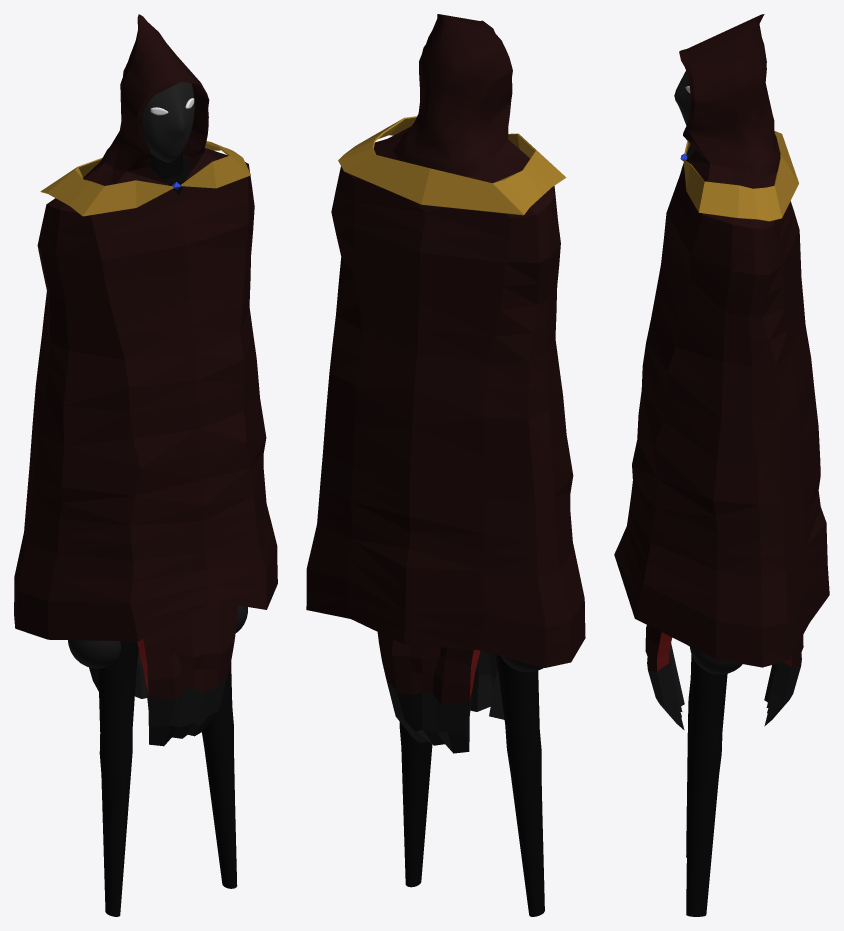
File: mav3.FBX
The picture shows the model from 3 angles, left to right: view 1: azimuth 30°, elevation 25°; view 2: azimuth 150°, elevation 25°; view 3: azimuth 270°, elevation 25°; orthographic projection. The views are drawn at different scales.
Parts seen in each view (by area): view 1: HOOD006, CLOTH FRONT008, LEG L024, Object006, LEG L022, FACE006, Sphere006, NECK006; view 2: HOOD006, Object006, CLOTH FRONT009, LEG L024, LEG L022, CLOTH FRONT008; view 3: HOOD006, LEG L022, Object006, CLOTH FRONT008, CLOTH FRONT009, Sphere005, FACE006.
Boxes of the visible parts, x1,y1,x2,y2 form: HOOD006: (14, 14, 277, 641); CLOTH FRONT008: (137, 601, 238, 746); LEG L024: (98, 641, 138, 916); Object006: (40, 141, 250, 216); LEG L022: (202, 661, 237, 888); FACE006: (142, 82, 194, 162); Sphere006: (68, 640, 120, 668); NECK006: (150, 151, 192, 195); HOOD006: (306, 14, 585, 667); Object006: (338, 116, 566, 215); CLOTH FRONT009: (377, 632, 479, 753); LEG L024: (495, 655, 544, 916); LEG L022: (399, 722, 432, 887); CLOTH FRONT008: (470, 650, 504, 719); HOOD006: (614, 14, 829, 667); LEG L022: (686, 654, 727, 916); Object006: (683, 131, 798, 221); CLOTH FRONT008: (645, 625, 684, 730); CLOTH FRONT009: (764, 635, 803, 726); Sphere005: (689, 646, 742, 674); FACE006: (674, 70, 690, 125).
Bounding box in the file's own units: 619 × 2043 × 457.
